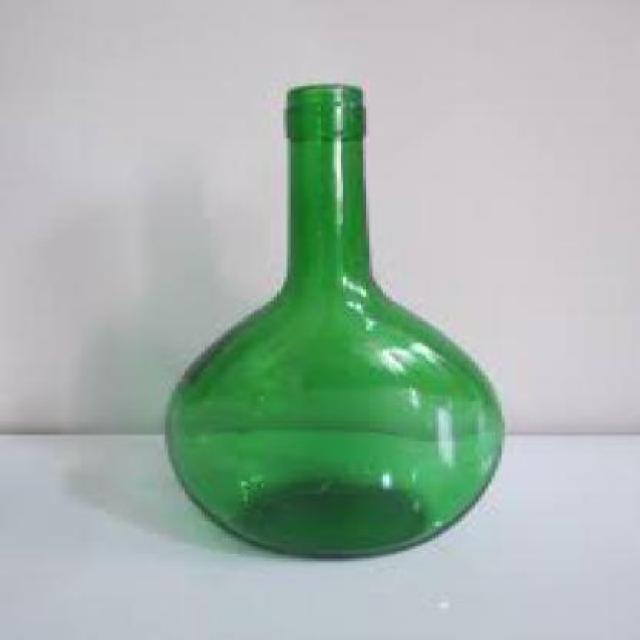kaca: (162, 82, 502, 556)
